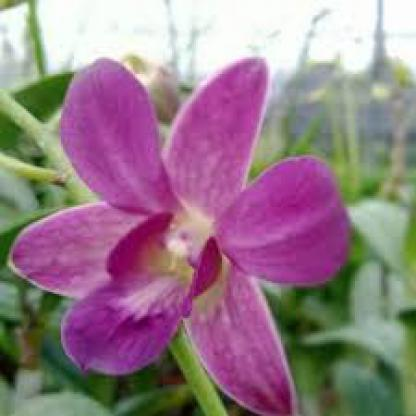ANGGREK: (29, 31, 334, 408)
